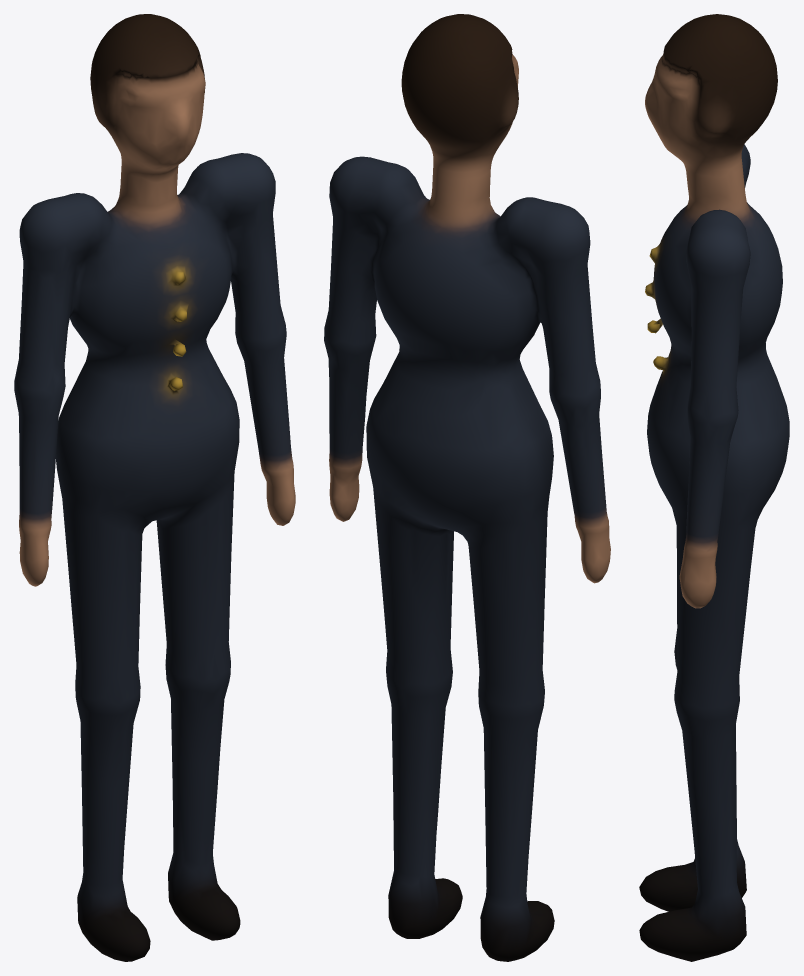
File: lumiere-npc-patron-m1.glb
3 renders of one model, left to right at view 1: azimuth 30°, elevation 25°; view 2: azimuth 150°, elevation 25°; view 3: azimuth 270°, elevation 25°, orthographic.
Visible parts, largest first — view 1: lumiere-npc-patron-m1_LOD0; view 2: lumiere-npc-patron-m1_LOD0; view 3: lumiere-npc-patron-m1_LOD0.
Part boxes in pixels (x1,y1,x2,y2): lumiere-npc-patron-m1_LOD0: (14, 14, 295, 961); lumiere-npc-patron-m1_LOD0: (324, 14, 610, 961); lumiere-npc-patron-m1_LOD0: (639, 14, 789, 961).
Size of what is drawn, in the model's own units: 0.5612 by 1.82 by 0.2714.
